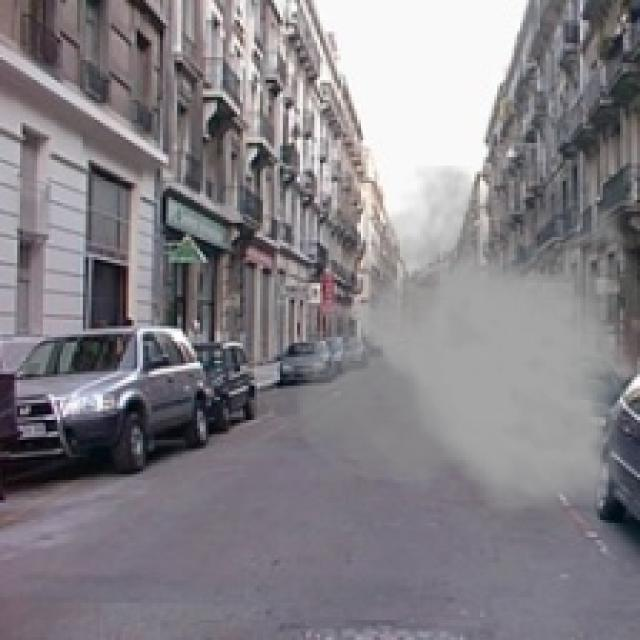Smoke: (292, 166, 637, 532)
